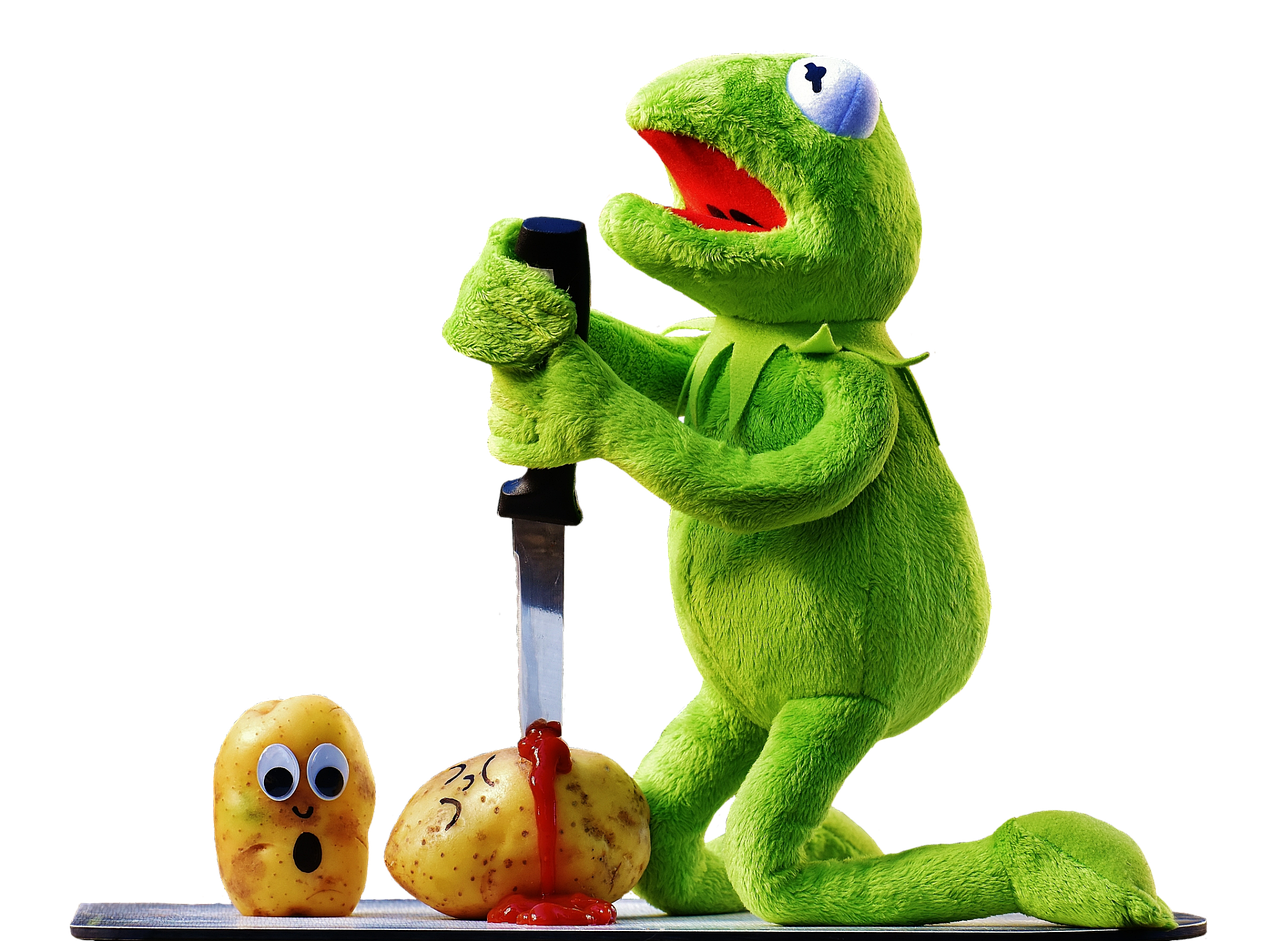knife: (482, 215, 601, 778)
